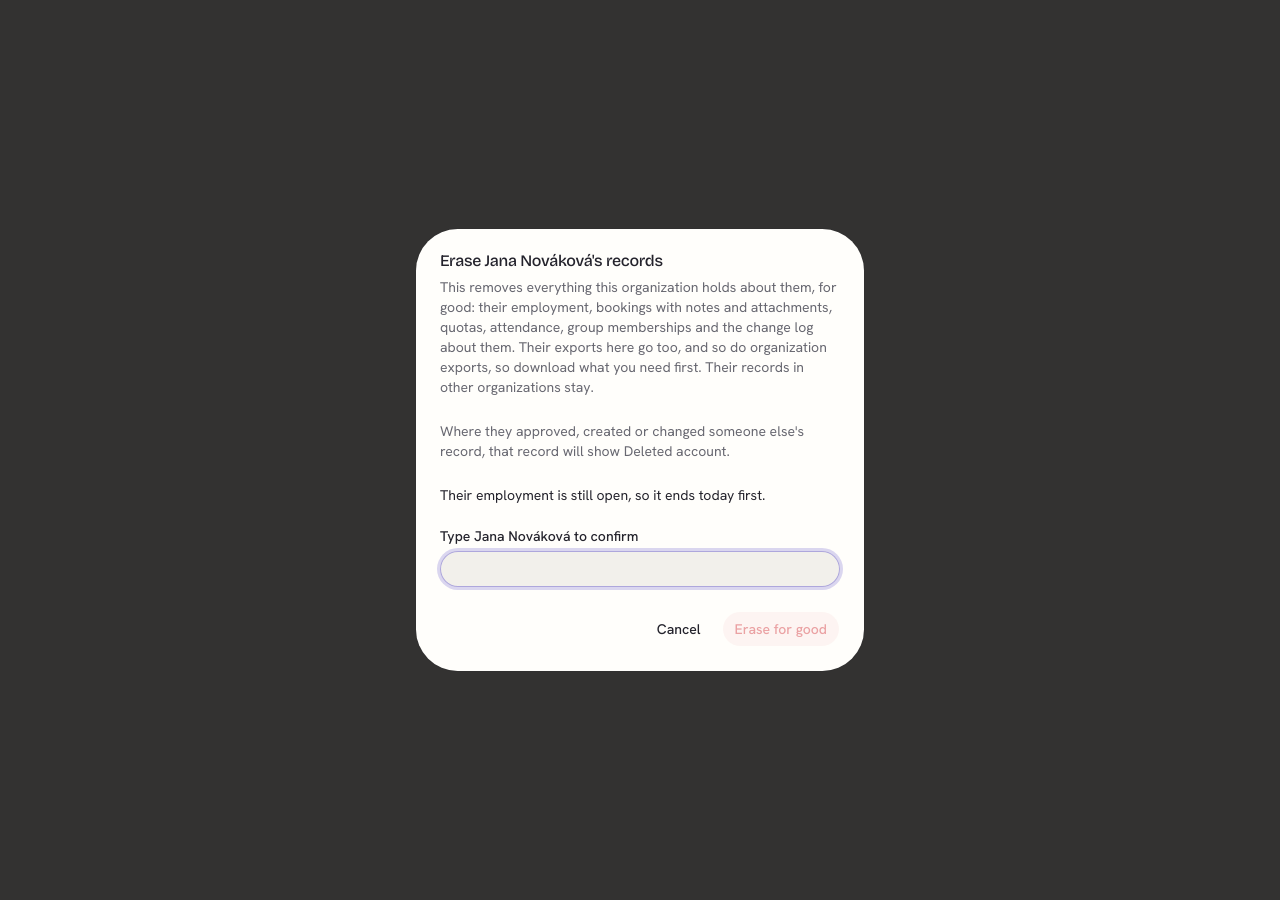
Scenario: EraseDialog › shows its own copy for an unknown refusal, never the server's message
Type "Jana Nováková" into the field labelled "Type Jana Nováková to confirm" at (640, 569), box [440, 551, 840, 587]
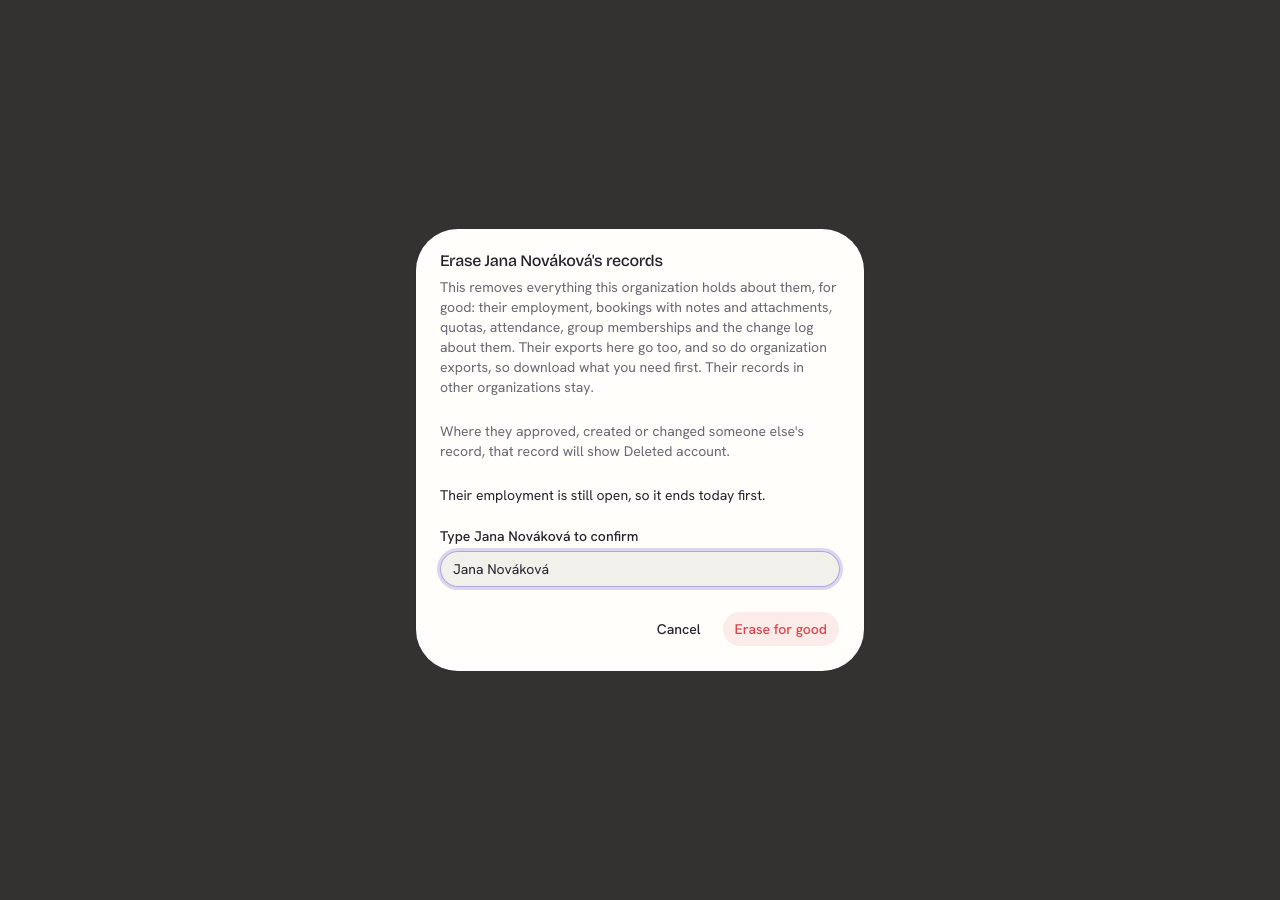
Click the button "Erase for good" at (781, 629), box [722, 611, 840, 647]
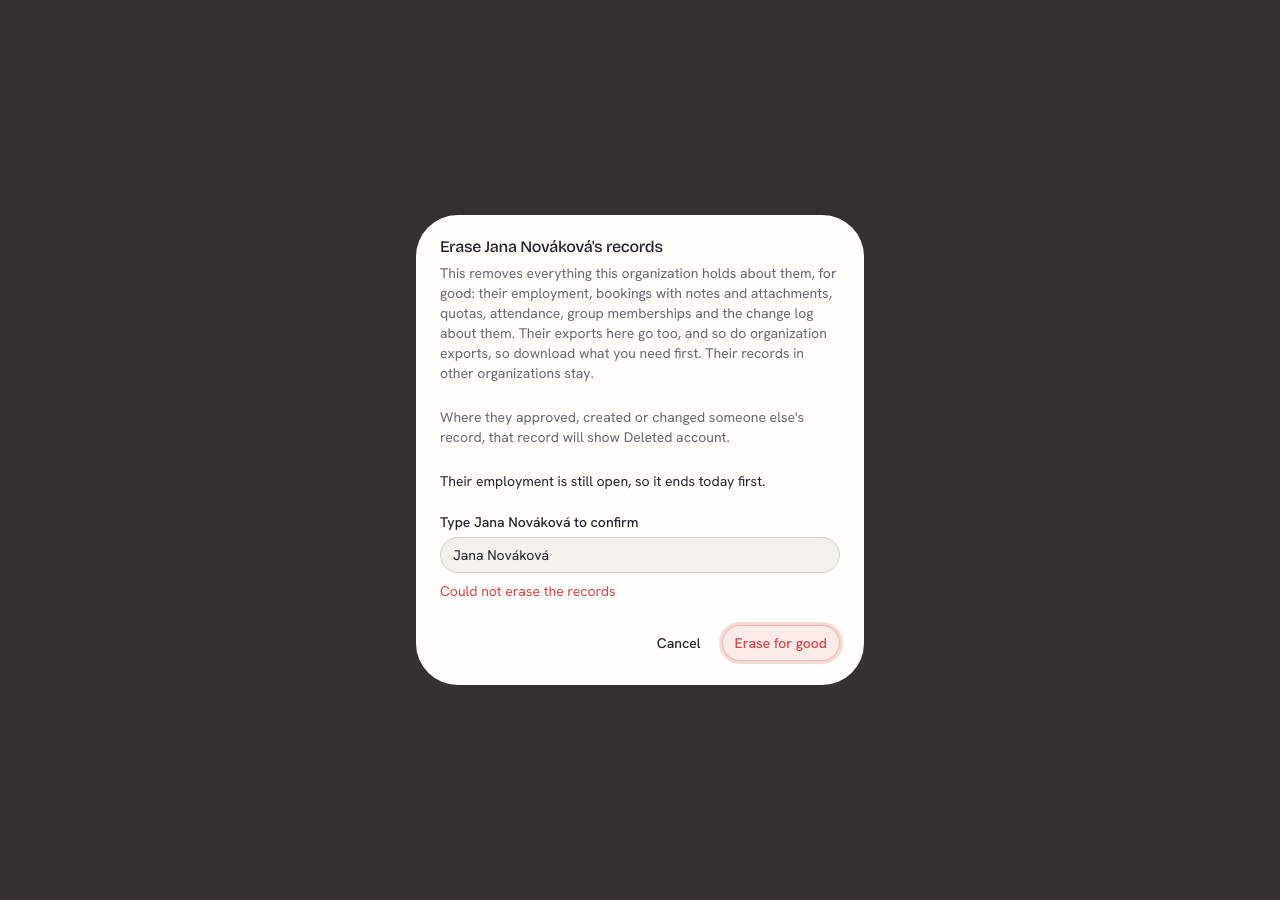
Check: the text "Could not erase the records" is shown, box [440, 582, 616, 600]
